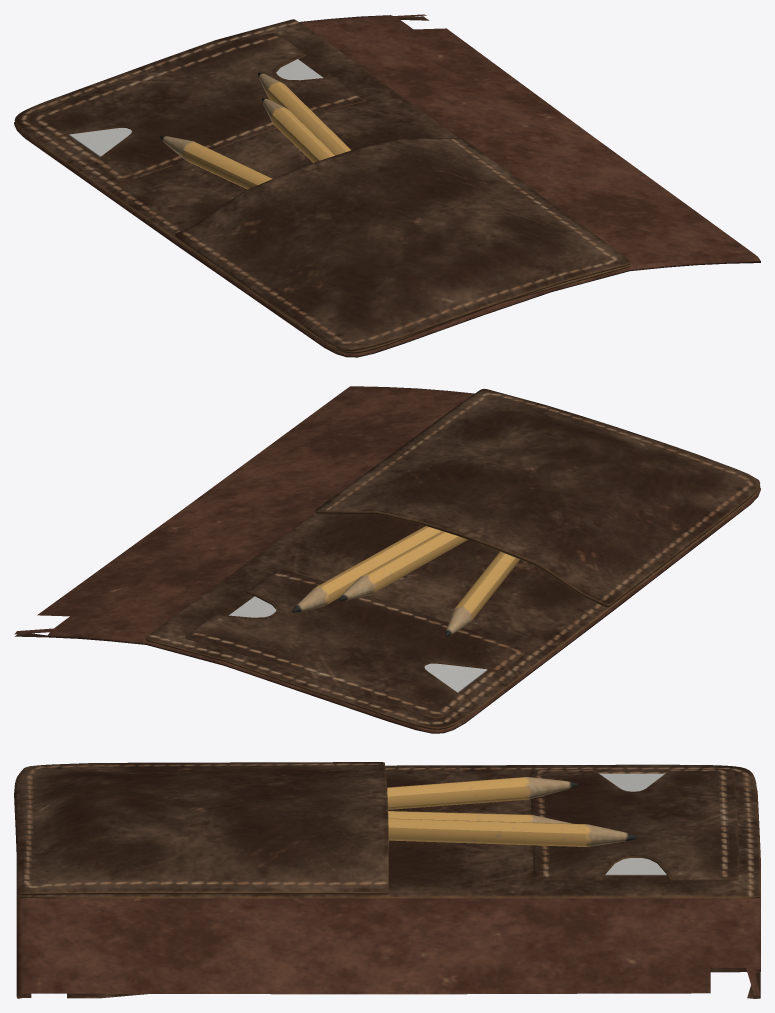
Rendered from binder_cover.fbx.
The picture shows the model from 3 angles, top to bottom: view 1: azimuth 30°, elevation 25°; view 2: azimuth 150°, elevation 25°; view 3: azimuth 270°, elevation 25°; orthographic projection. The views are drawn at different scales.
Visible parts, largest first — view 1: binder_cover; view 2: binder_cover; view 3: binder_cover.
Boxes of the visible parts, <box> form: binder_cover: <box>14,14,760,357</box>; binder_cover: <box>14,386,760,733</box>; binder_cover: <box>14,762,760,998</box>.
Bounding box in the file's own units: 0.1448 × 0.0165 × 0.2.
1 material, 1 textured.
